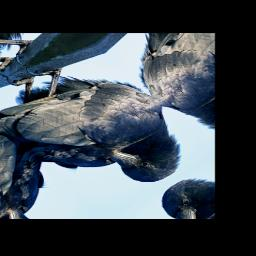Crow: (0, 34, 211, 216)
